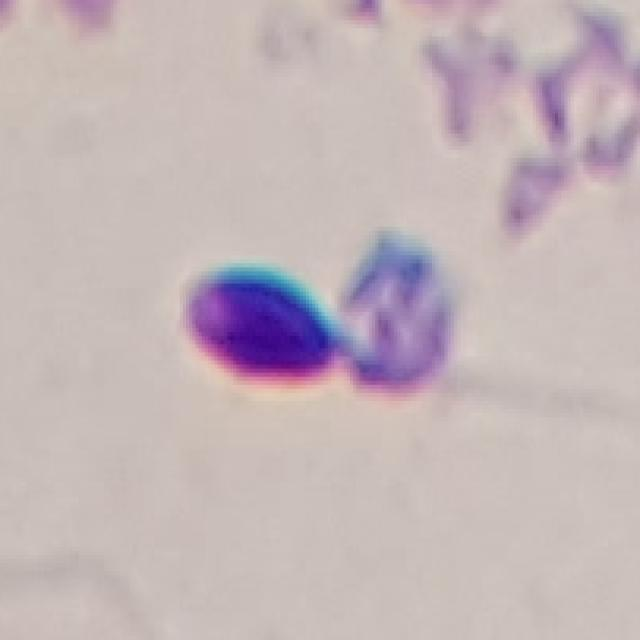normal sperm: (182, 264, 456, 404)
